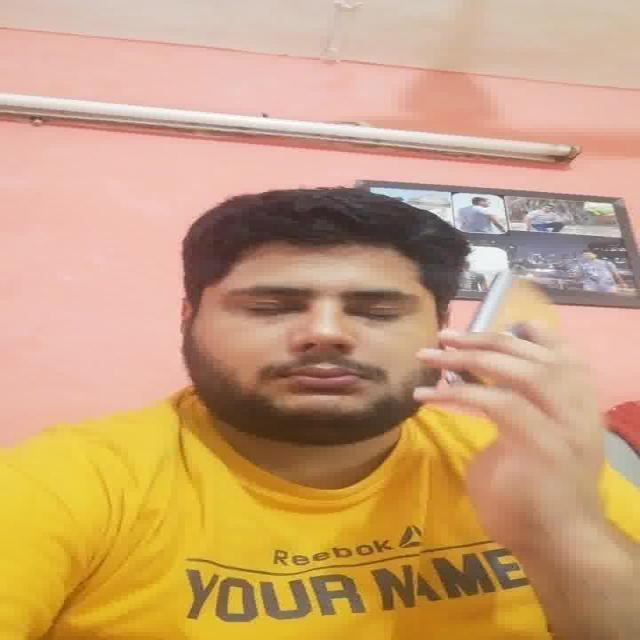Phone: (474, 270, 560, 348)
